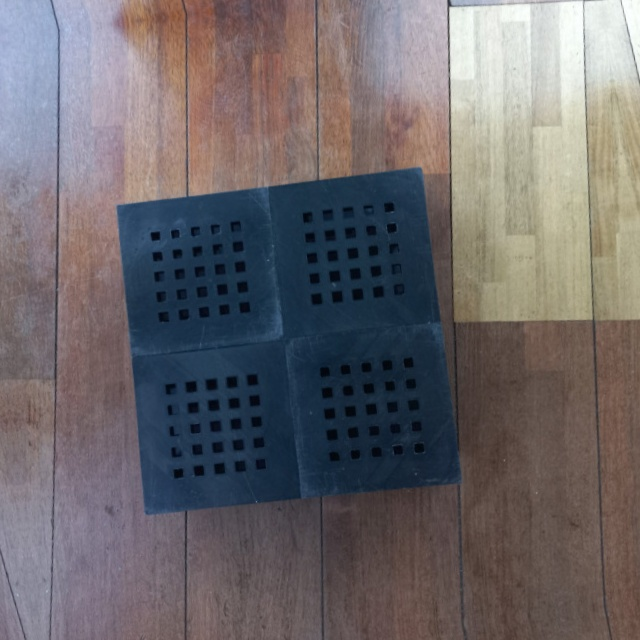pallet: (110, 163, 460, 522)
